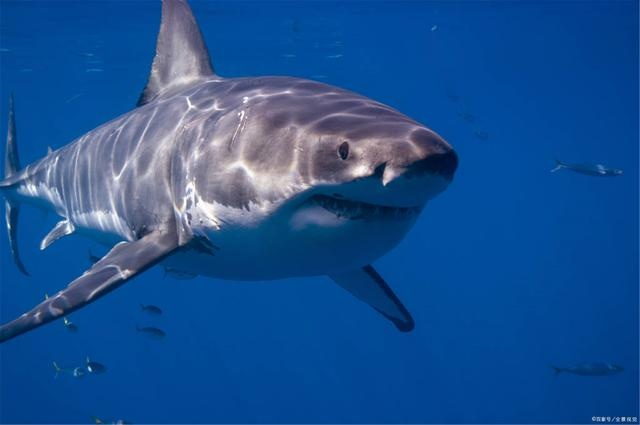fish: (1, 8, 491, 335), (541, 354, 633, 393), (549, 153, 633, 191)
